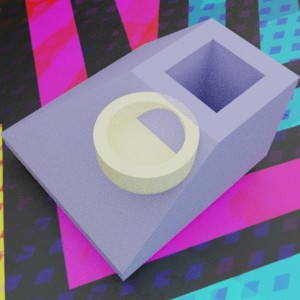lego: (0, 18, 299, 281), (93, 91, 233, 239)
